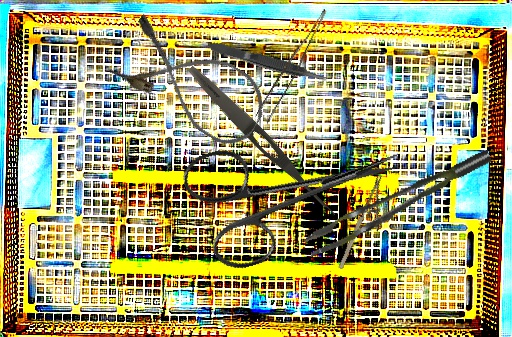Cannula: (106, 10, 277, 155)
Dressing Forceps: (183, 61, 343, 221)
Iris Scissors: (178, 100, 417, 278)
Needle Holder: (335, 172, 401, 277)
Tissue Forceps: (296, 149, 502, 258), (254, 2, 328, 126), (207, 37, 330, 88)
